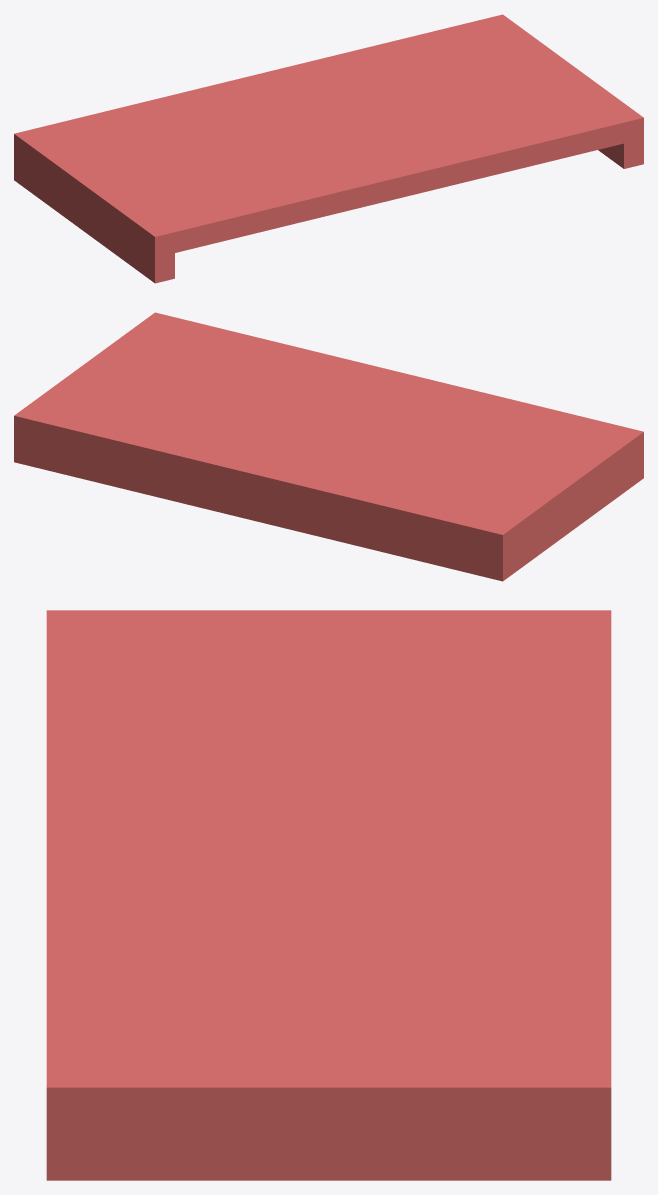
File: drawersBaseLoPoly.gltf
3 views of the same model, one above another, from view 1: azimuth 30°, elevation 25°; view 2: azimuth 150°, elevation 25°; view 3: azimuth 270°, elevation 25° (orthographic). The views are drawn at different scales.
Visible parts, largest first — view 1: drawersBaseLoPoly; view 2: drawersBaseLoPoly; view 3: drawersBaseLoPoly.
Part boxes in pixels (x1,y1,x2,y2): drawersBaseLoPoly: (14, 14, 643, 283); drawersBaseLoPoly: (14, 312, 643, 581); drawersBaseLoPoly: (46, 610, 611, 1180).
Bounding box in the file's own units: 1.1 × 0.1 × 0.55.
